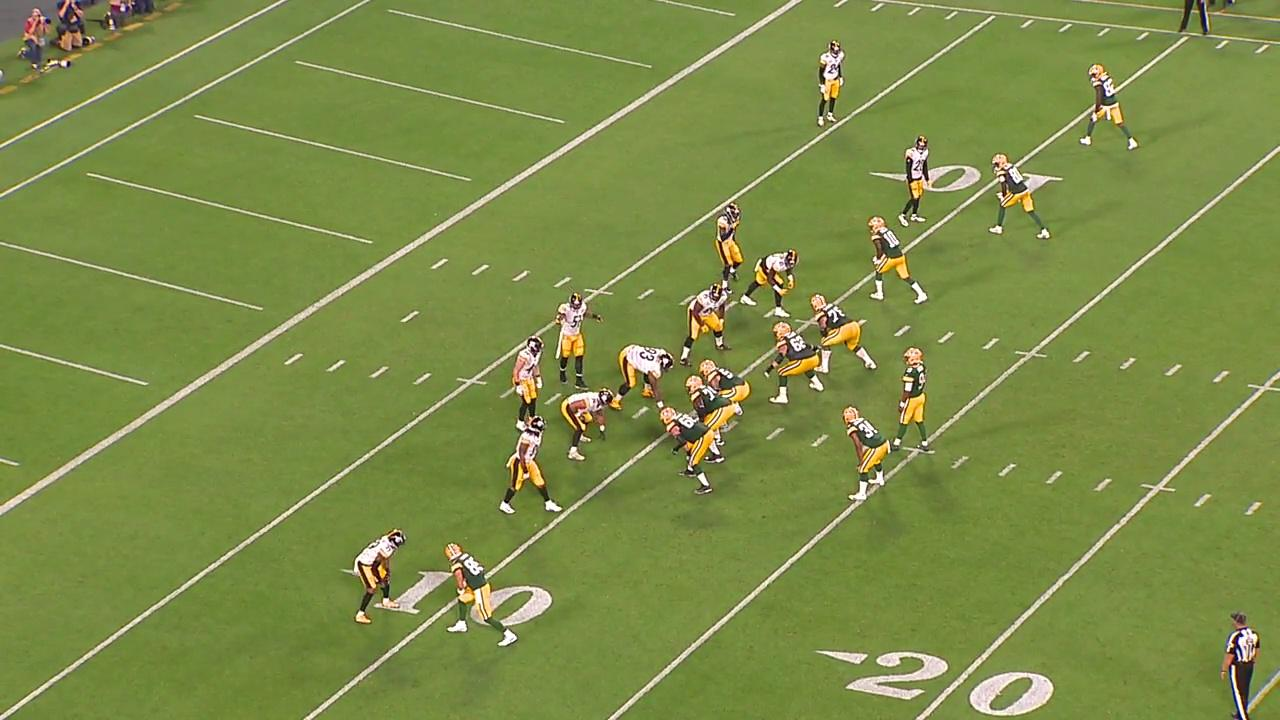defense: (496, 416, 557, 520), (351, 527, 407, 629), (552, 294, 601, 387), (607, 345, 675, 411), (562, 390, 618, 462), (808, 38, 848, 136), (683, 282, 729, 366), (745, 249, 801, 315), (897, 133, 935, 225), (717, 201, 750, 295), (516, 335, 547, 425)
oline: (756, 322, 825, 407), (810, 295, 876, 377), (657, 406, 713, 498), (689, 380, 732, 460), (702, 362, 749, 418)
qb: (892, 346, 934, 453)
ref: (1221, 611, 1264, 720)
skill: (437, 535, 521, 650), (988, 147, 1050, 241), (867, 215, 929, 306), (1078, 63, 1140, 153), (841, 405, 888, 501)
